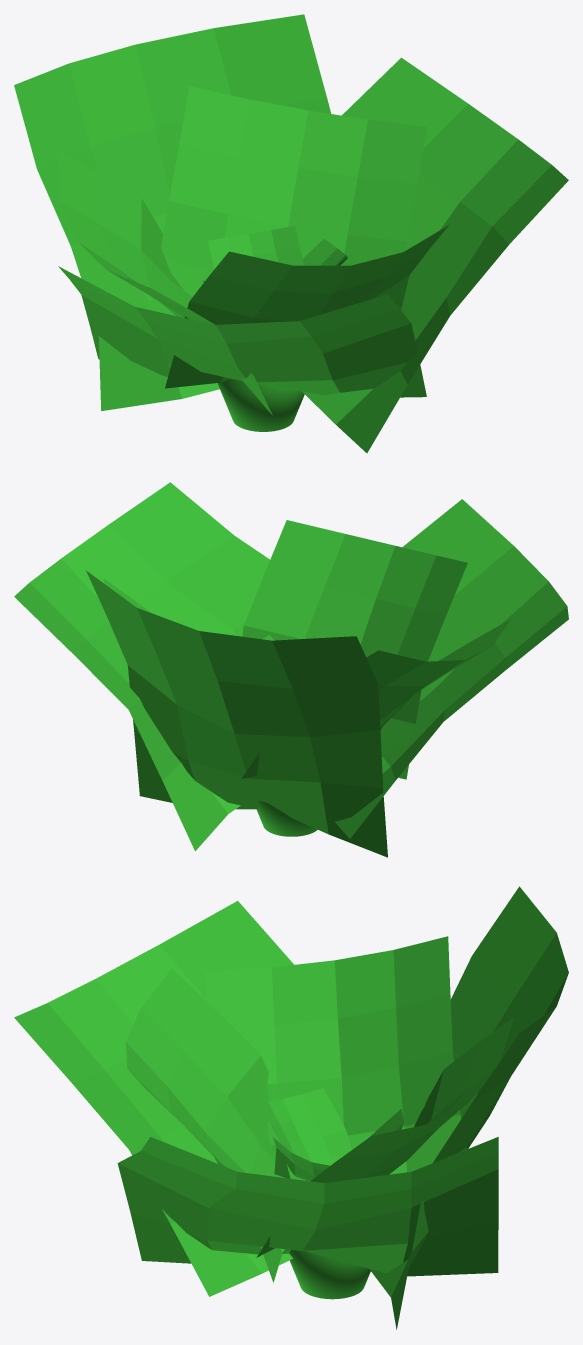
Rendered from lechuga.glb.
The picture shows the model from 3 angles, top to bottom: view 1: azimuth 30°, elevation 25°; view 2: azimuth 150°, elevation 25°; view 3: azimuth 270°, elevation 25°; orthographic projection. The views are drawn at different scales.
Parts seen in each view (by area): view 1: Lettuce; view 2: Lettuce; view 3: Lettuce.
Part boxes in pixels (x1=…): Lettuce: x1=14, y1=14, x2=568, y2=453; Lettuce: x1=14, y1=482, x2=568, y2=857; Lettuce: x1=14, y1=886, x2=568, y2=1329.
Size of the model in its own units: 0.3462 by 0.202 by 0.3189.
